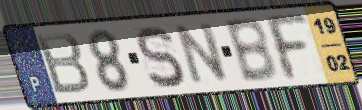8: (84, 27, 133, 95)
B: (221, 15, 279, 85), (33, 30, 93, 97)
F: (260, 13, 312, 83)
N: (173, 21, 231, 87)
S: (133, 23, 186, 91)
